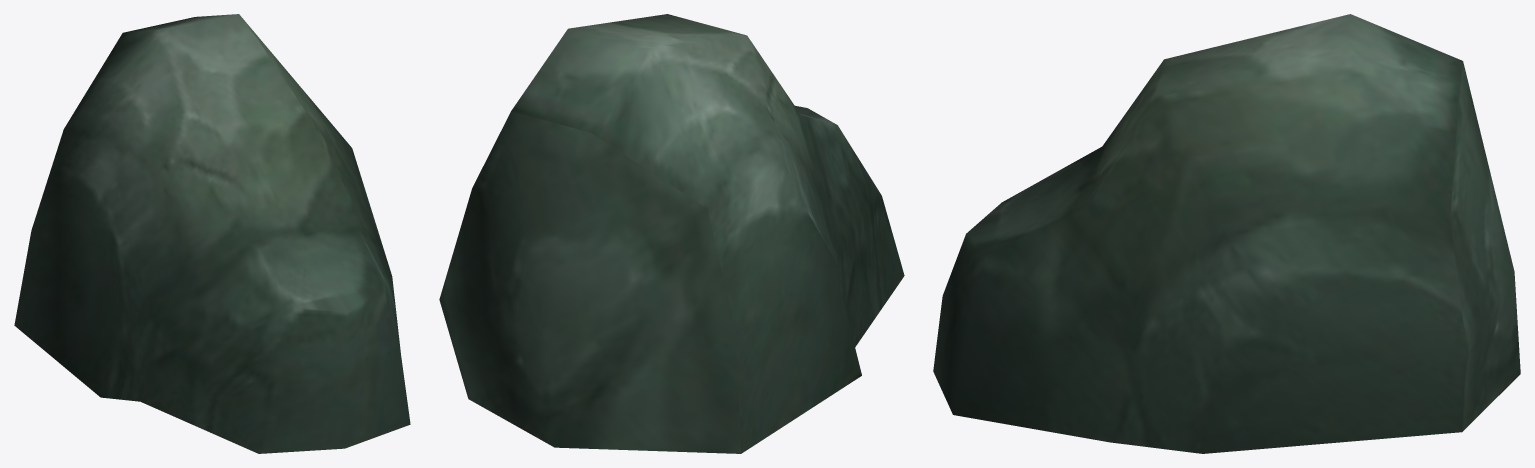
File: Moba_st06.FBX
3 renders of one model, left to right at view 1: azimuth 30°, elevation 25°; view 2: azimuth 150°, elevation 25°; view 3: azimuth 270°, elevation 25°, orthographic. The views are drawn at different scales.
Parts seen in each view (by area): view 1: Moba_st06; view 2: Moba_st06; view 3: Moba_st06.
Part boxes in pixels (<box>): Moba_st06: <box>14,14,410,453</box>; Moba_st06: <box>439,14,904,453</box>; Moba_st06: <box>933,14,1520,453</box>.
Bounding box in the file's own units: 25.66 × 38.87 × 25.87.
